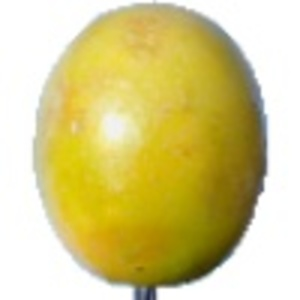maracujá: (32, 3, 271, 300)
